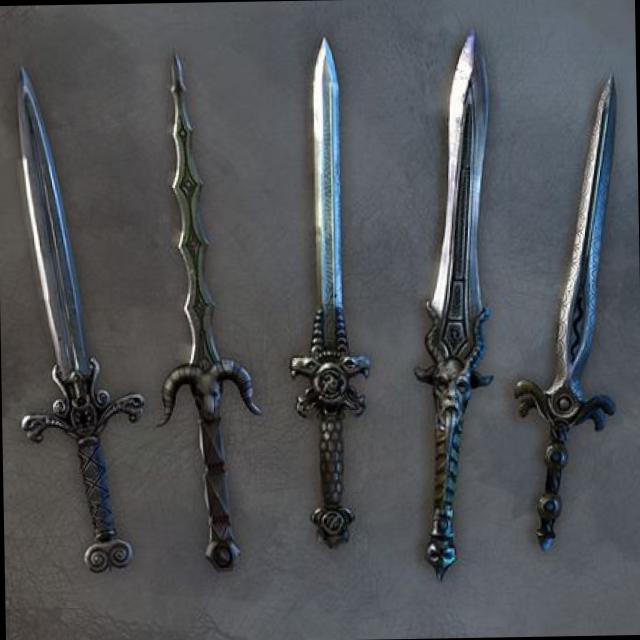Gun: (384, 27, 523, 585), (0, 22, 120, 640), (505, 53, 638, 569), (159, 36, 268, 604), (281, 29, 381, 561)
